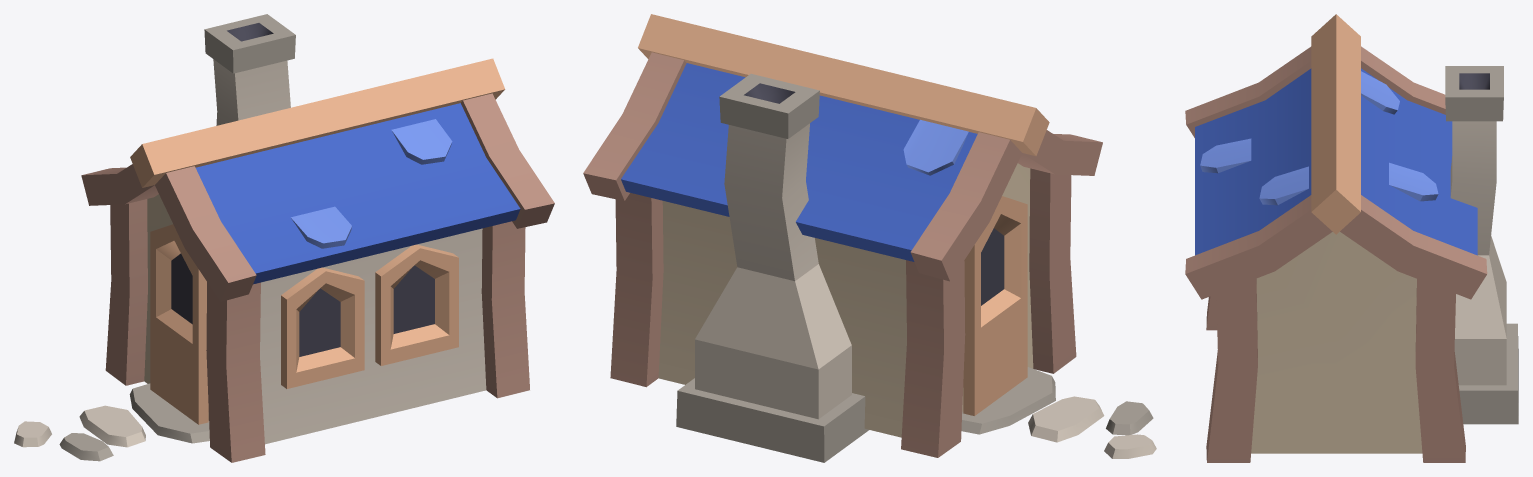
File: SM_ME_House_01.fbx
3 views of the same model, side by side, from view 1: azimuth 30°, elevation 25°; view 2: azimuth 150°, elevation 25°; view 3: azimuth 270°, elevation 25° (orthographic). The views are drawn at different scales.
Visible parts, largest first — view 1: House_01; view 2: House_01; view 3: House_01.
Boxes of the visible parts, x1,y1,x2,y2 form: House_01: (14,14,554,462); House_01: (583,14,1156,462); House_01: (1185,14,1518,462).
Size of the model in its own units: 2.68 by 1.66 by 1.61.
